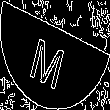M_N: (34, 23, 76, 87)
